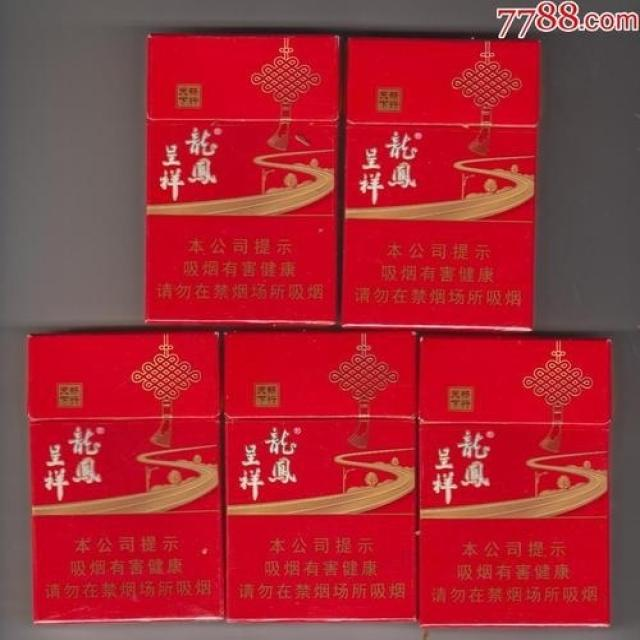box: (340, 36, 543, 332), (143, 33, 340, 330), (27, 330, 224, 625), (223, 329, 419, 624), (420, 335, 612, 629)
